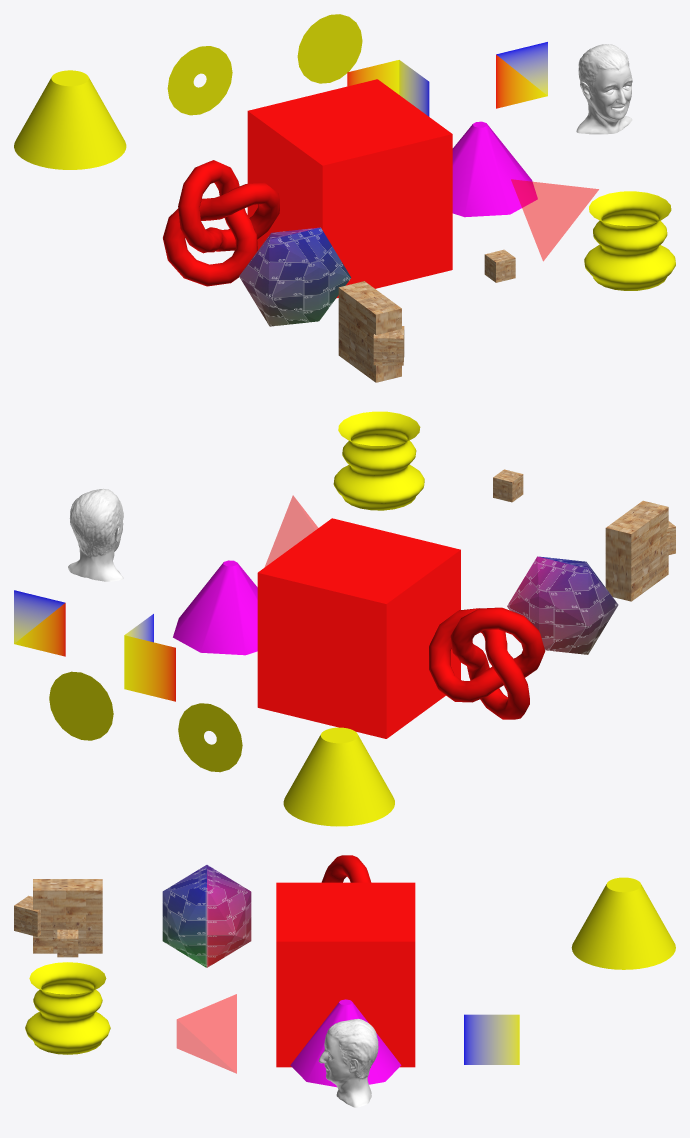
File: savedscene.gltf
3 views of the same model, one above another, from view 1: azimuth 30°, elevation 25°; view 2: azimuth 150°, elevation 25°; view 3: azimuth 270°, elevation 25° (orthographic). The views are drawn at different scales.
Parts seen in each view (by area): view 1: CubeHidden, Cylinder (×2), Icosahedron, object 13, object 14, Cube, Mesh_Mesh_head_geo.001_lambert2SG.001, Tetrahedron, object 11, object 12, Custom buffered truncated, Custom buffered (+2 smaller); view 2: CubeHidden, Cylinder (×2), object 13, object 14, Icosahedron, Cube, Mesh_Mesh_head_geo.001_lambert2SG.001, object 11, object 12, Custom buffered, Custom buffered truncated, Tetrahedron (+1 smaller); view 3: CubeHidden, Icosahedron, object 13, object 14, Cube, Cylinder (×2), Mesh_Mesh_head_geo.001_lambert2SG.001, Tetrahedron, Custom buffered, SubCube, Cube in group.
Part boxes in pixels (left/top/right/bottom): CubeHidden: left=247, top=79, right=452, bottom=298; Cylinder (×2): left=163, top=121, right=537, bottom=286; Icosahedron: left=239, top=227, right=351, bottom=326; object 13: left=14, top=70, right=126, bottom=169; object 14: left=584, top=191, right=675, bottom=290; Cube: left=338, top=281, right=401, bottom=382; Mesh_Mesh_head_geo.001_lambert2SG.001: left=576, top=44, right=632, bottom=134; Tetrahedron: left=511, top=179, right=598, bottom=261; object 11: left=297, top=14, right=362, bottom=83; object 12: left=167, top=46, right=232, bottom=115; Custom buffered truncated: left=496, top=42, right=547, bottom=108; Custom buffered: left=347, top=60, right=429, bottom=116; CubeHidden: left=257, top=518, right=460, bottom=738; Cylinder (×2): left=173, top=560, right=545, bottom=719; object 13: left=283, top=727, right=394, bottom=826; object 14: left=333, top=411, right=424, bottom=510; Icosahedron: left=507, top=556, right=618, bottom=654; Cube: left=605, top=500, right=668, bottom=601; Mesh_Mesh_head_geo.001_lambert2SG.001: left=68, top=488, right=123, bottom=581; object 11: left=49, top=671, right=113, bottom=740; object 12: left=178, top=703, right=242, bottom=772; Custom buffered: left=124, top=614, right=175, bottom=701; Custom buffered truncated: left=14, top=590, right=65, bottom=656; Tetrahedron: left=265, top=495, right=318, bottom=566; CubeHidden: left=276, top=882, right=415, bottom=1067; Icosahedron: left=162, top=865, right=251, bottom=967; object 13: left=571, top=877, right=675, bottom=969; object 14: left=25, top=962, right=110, bottom=1054; Cube: left=33, top=879, right=102, bottom=953; Cylinder (×2): left=290, top=855, right=401, bottom=1087; Mesh_Mesh_head_geo.001_lambert2SG.001: left=318, top=1018, right=378, bottom=1107; Tetrahedron: left=176, top=994, right=236, bottom=1073; Custom buffered: left=464, top=1014, right=519, bottom=1064; SubCube: left=14, top=895, right=40, bottom=936; Cube in group: left=57, top=929, right=78, bottom=957.
Bounding box in the file's own units: 717 × 214 × 953.
Materials: 11 (2 with a texture image).
